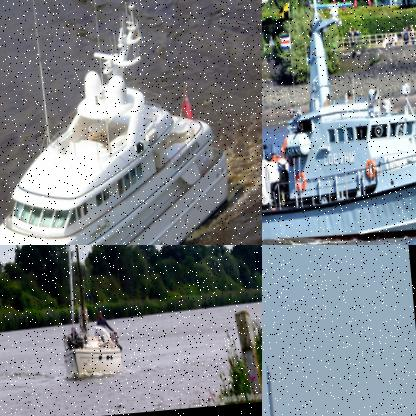Patrol Boat: (262, 0, 415, 244)
Sails Boat: (35, 245, 126, 382)
Yacht: (0, 0, 245, 244), (262, 323, 384, 415)
